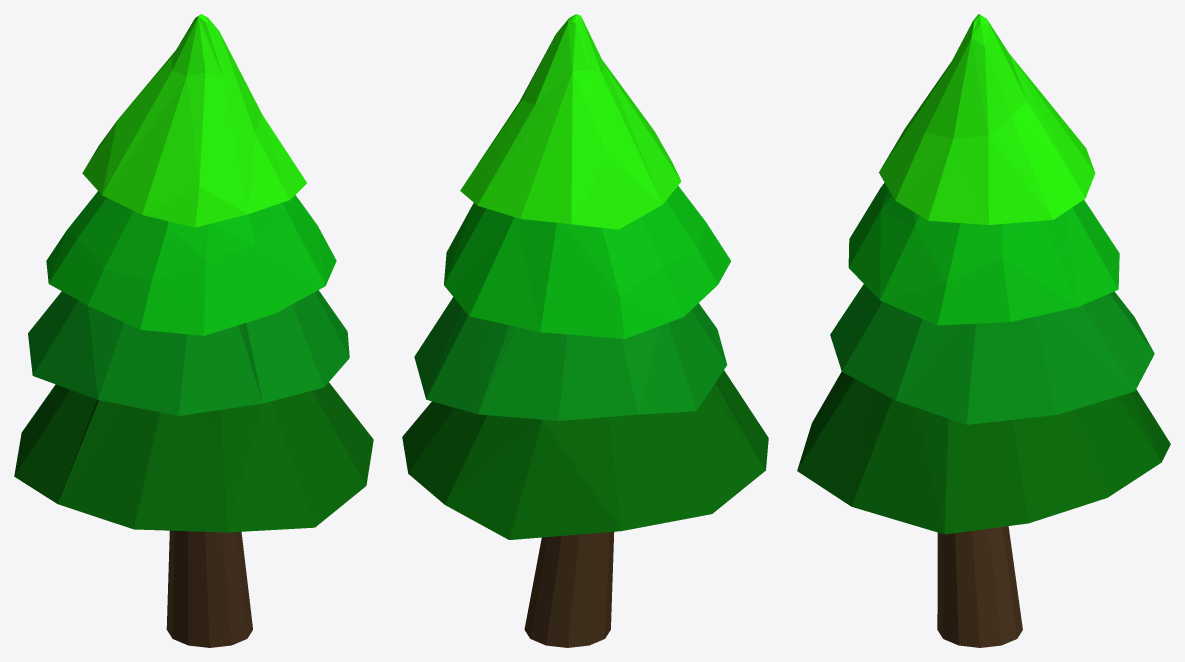
File: gradient tree.fbx
The picture shows the model from 3 angles, left to right: view 1: azimuth 30°, elevation 25°; view 2: azimuth 150°, elevation 25°; view 3: azimuth 270°, elevation 25°; orthographic projection.
Parts seen in each view (by area): view 1: leaves; view 2: leaves; view 3: leaves.
Part boxes in pixels (x1,y1,x2,y2): leaves: [14, 14, 373, 647]; leaves: [402, 14, 768, 647]; leaves: [797, 14, 1170, 647].
Size of the model in its own units: 325 by 597 by 331.
